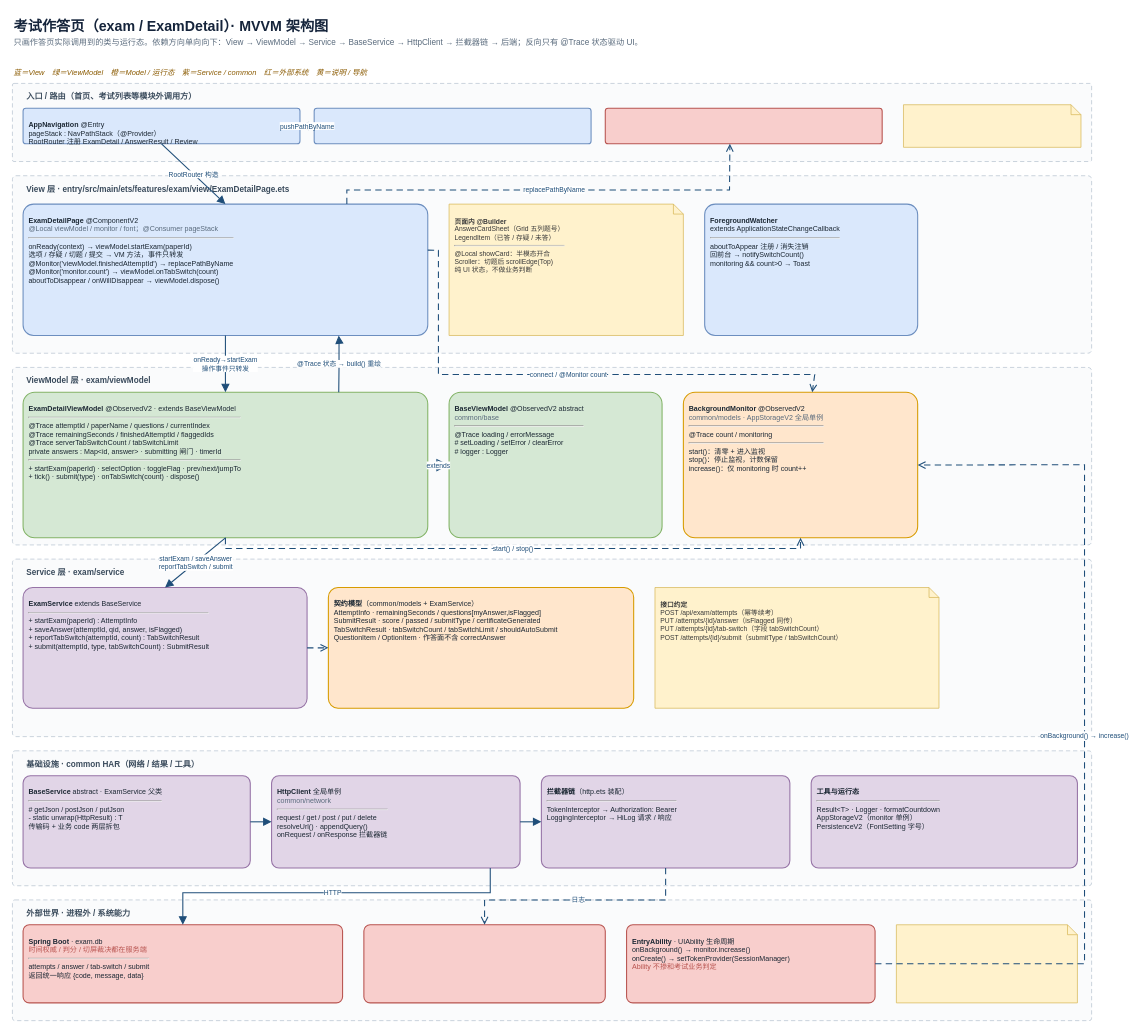
Image size: 1141x1033. Some labels were removed from this diagram. The centre of each missing label's shape, as x and y in pixels:
AnswerResultPage （结果页） replace 目的地；本图不展开其内部: the point at 743,125
HiLog · domain 0x0000 拦截器：请求 / 响应各一行 ViewModel：开考 / 交卷 / 上报日志 页面：Toast 失败降级 warn: the point at 484,963
replace 而非 push： 交卷后不可返回答题页。: the point at 992,125
入口 HomePage 卡片 / 考试列表 pageStack.pushPathByName('ExamDetail', paperId): the point at 452,125
线程 / 定时器：setInterval(tick, 1000) 在 VM 内；页面销毁与交卷成功都会 clearInterval。: the point at 986,963
